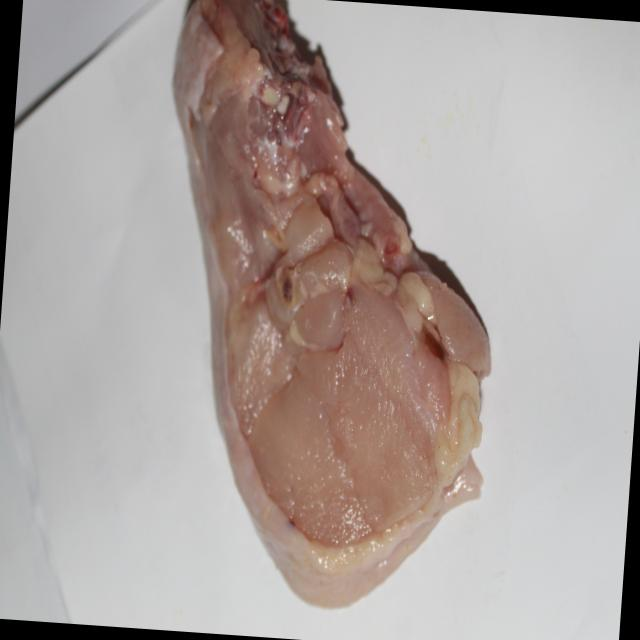chicken: (136, 0, 508, 621)
